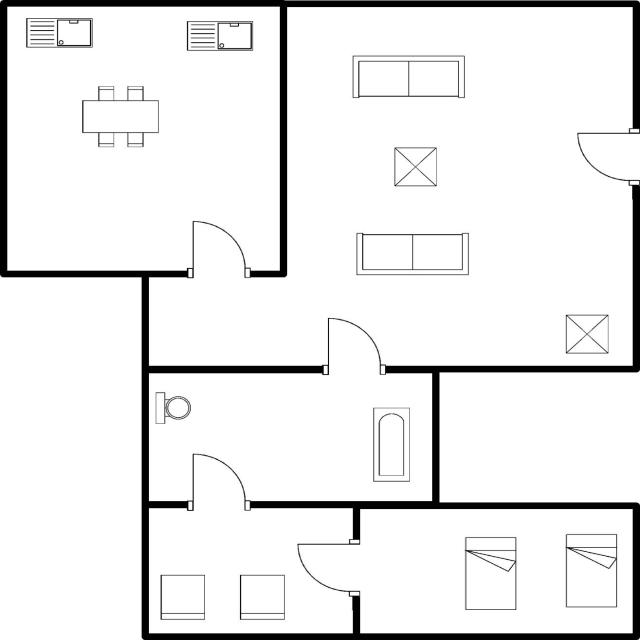bed: (458, 530, 523, 615), (560, 527, 622, 614)
coffee_table: (560, 309, 616, 360), (390, 143, 442, 192)
dining_table: (78, 79, 166, 150)
large_sink: (151, 386, 194, 428)
large_sofa: (345, 50, 473, 102), (350, 229, 474, 280)
sink: (20, 13, 97, 53), (180, 16, 256, 54)
small_sofa: (236, 570, 292, 625), (154, 570, 210, 624)
tub: (368, 402, 416, 486)
